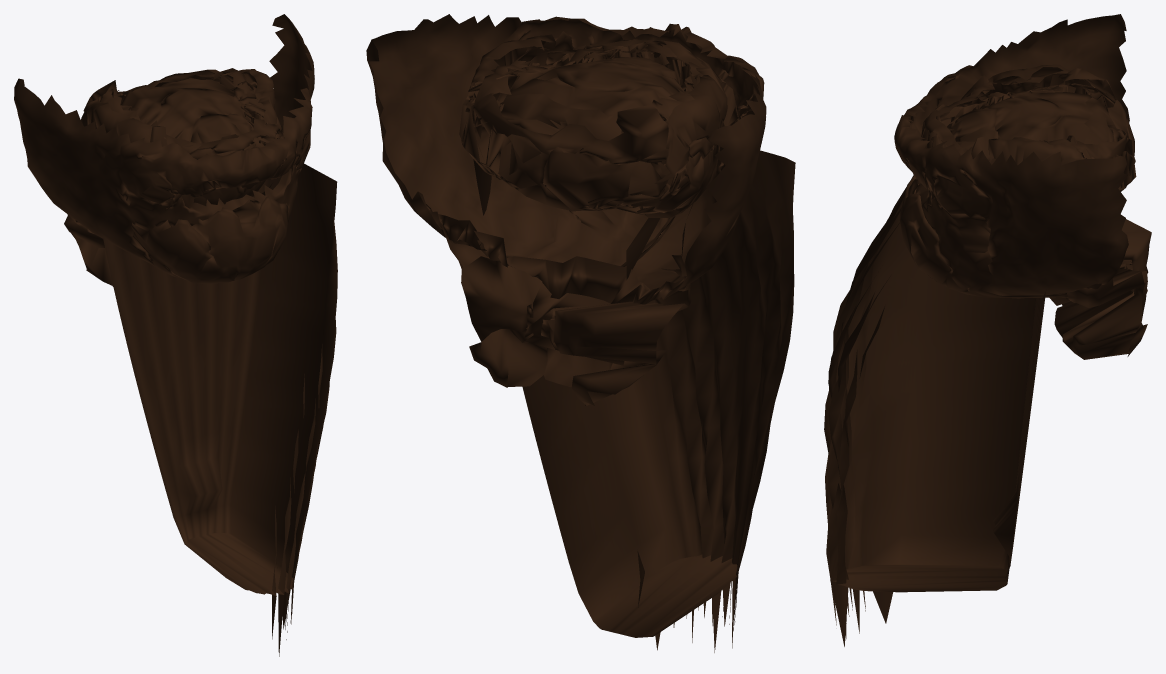
The model's file is kopf.bart.wikinger.glb.
3 views of the same model, side by side, from view 1: azimuth 30°, elevation 25°; view 2: azimuth 150°, elevation 25°; view 3: azimuth 270°, elevation 25° (orthographic). The views are drawn at different scales.
Visible parts, largest first — view 1: bart; view 2: bart; view 3: bart.
Boxes of the visible parts, x1=… form: bart: x1=14, y1=14, x2=337, y2=656; bart: x1=366, y1=14, x2=795, y2=652; bart: x1=824, y1=14, x2=1151, y2=646.
Bounding box in the file's own units: 0.1407 × 0.2506 × 0.1306.
